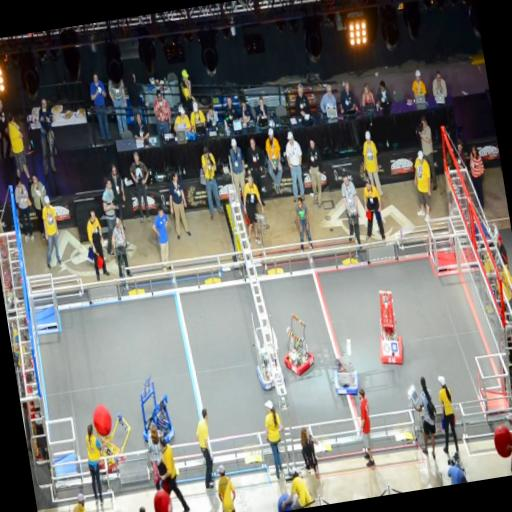robot: (86, 404, 140, 475), (369, 285, 407, 367), (136, 376, 178, 450), (278, 310, 318, 378), (327, 335, 362, 399)
